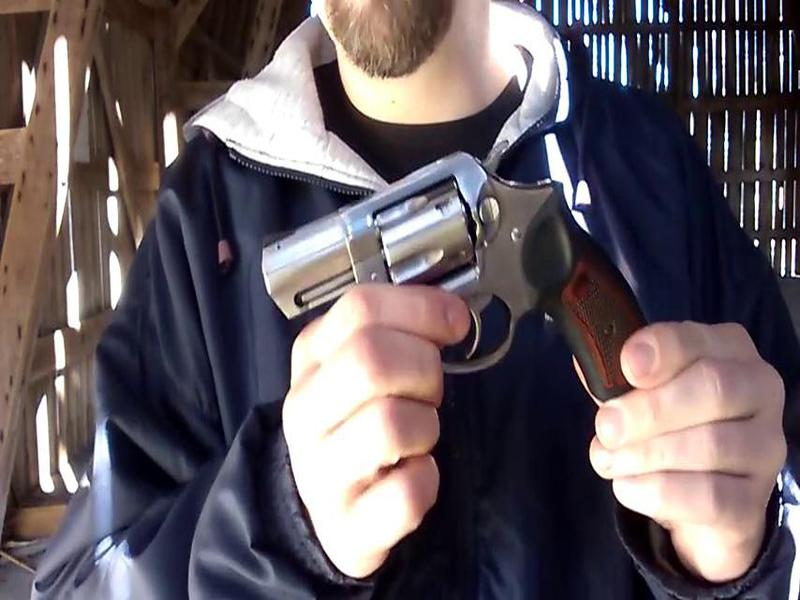Revolver: (252, 144, 663, 404)
